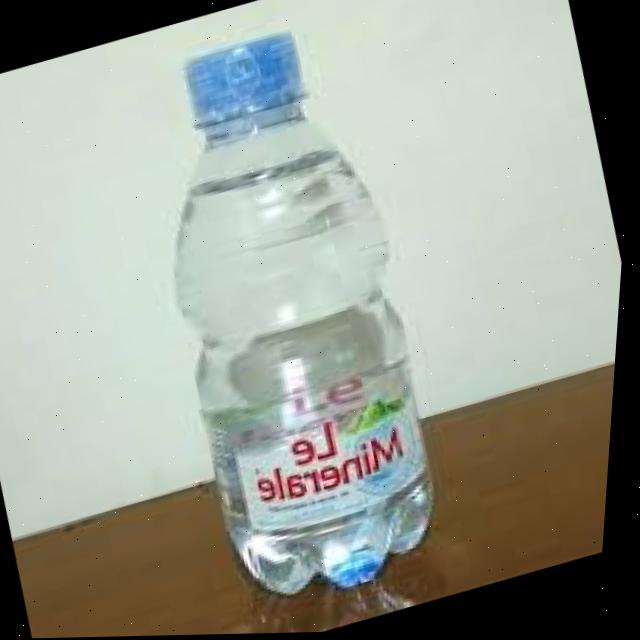Dry: (50, 0, 510, 637)
